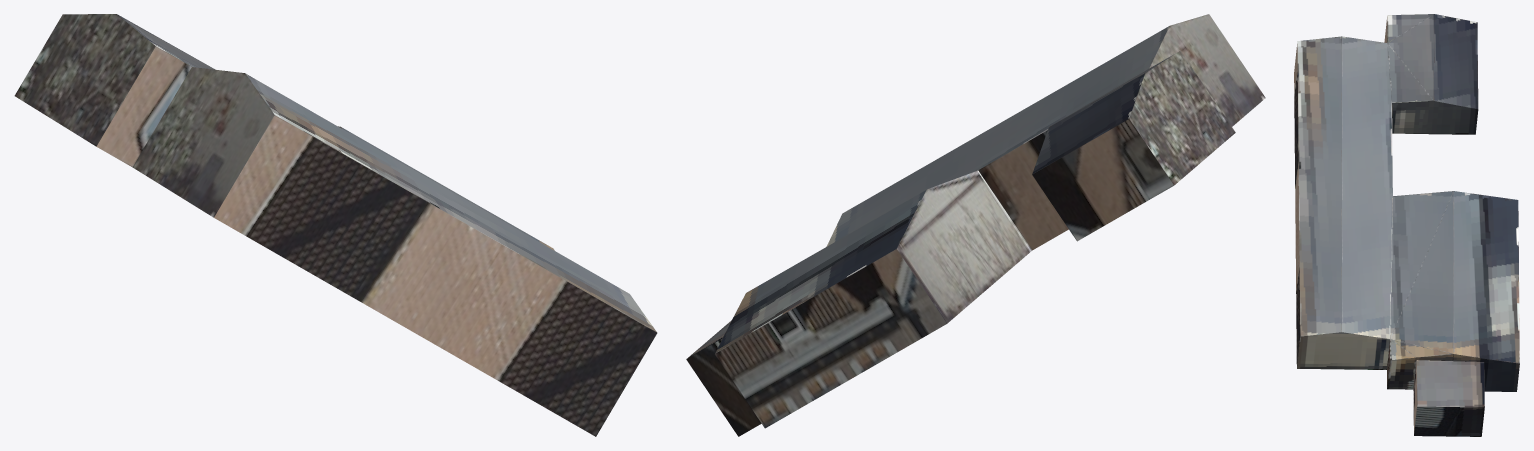
3 renders of one model, left to right at view 1: azimuth 30°, elevation 25°; view 2: azimuth 150°, elevation 25°; view 3: azimuth 270°, elevation 25°, orthographic. The views are drawn at different scales.
Visible parts, largest first — view 1: BAG_0599100010058557 (×2); view 2: BAG_0599100010058557 (×3); view 3: BAG_0599100010058557 (×5).
Part boxes in pixels (box(x1,y1,x2,y2)): BAG_0599100010058557 (×2): box(14, 14, 657, 436); BAG_0599100010058557 (×3): box(686, 14, 1265, 436); BAG_0599100010058557 (×5): box(1294, 14, 1519, 436).
Size of the model in its own units: 14.28 by 12.12 by 8.35.
6 materials, 6 textured.
